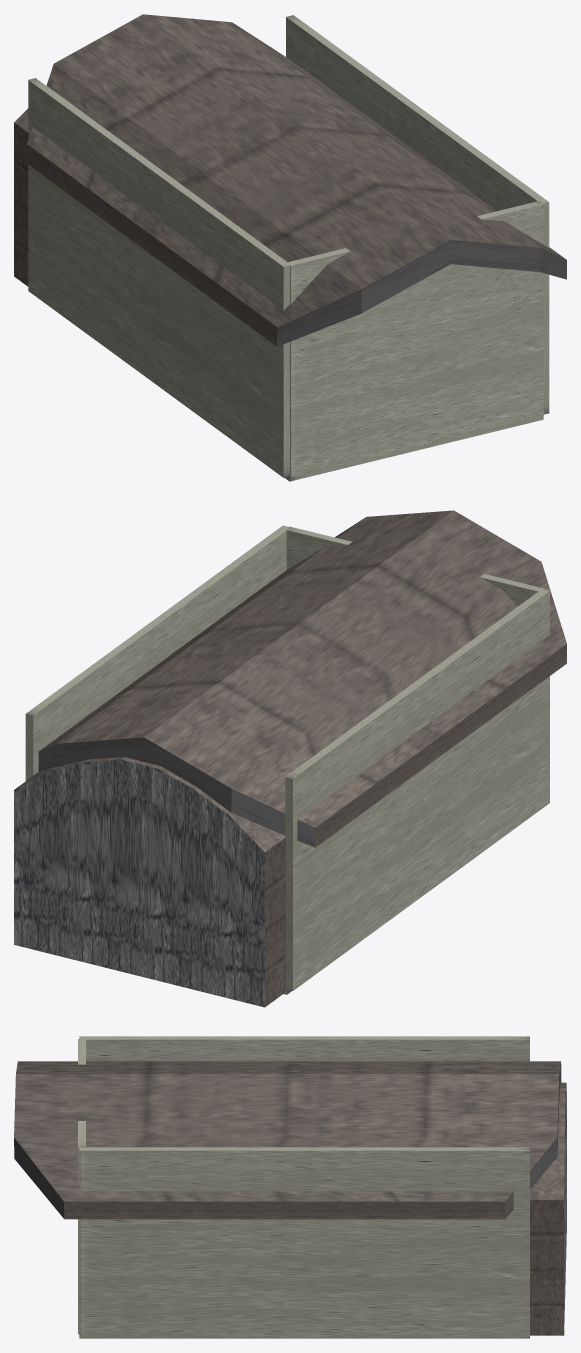
Rendered from CHAPEL.V3.fbx.
3 renders of one model, top to bottom at view 1: azimuth 30°, elevation 25°; view 2: azimuth 150°, elevation 25°; view 3: azimuth 270°, elevation 25°, orthographic. The views are drawn at different scales.
Parts seen in each view (by area): view 1: Cube.008; view 2: Cube.008; view 3: Cube.008.
Boxes of the visible parts, box(x1,y1,x2,y2) form: Cube.008: box(14, 14, 566, 481); Cube.008: box(14, 510, 566, 1007); Cube.008: box(14, 1036, 566, 1338).
Size of the model in its own units: 3190 by 2530 by 6054.
3 materials, 3 textured.
